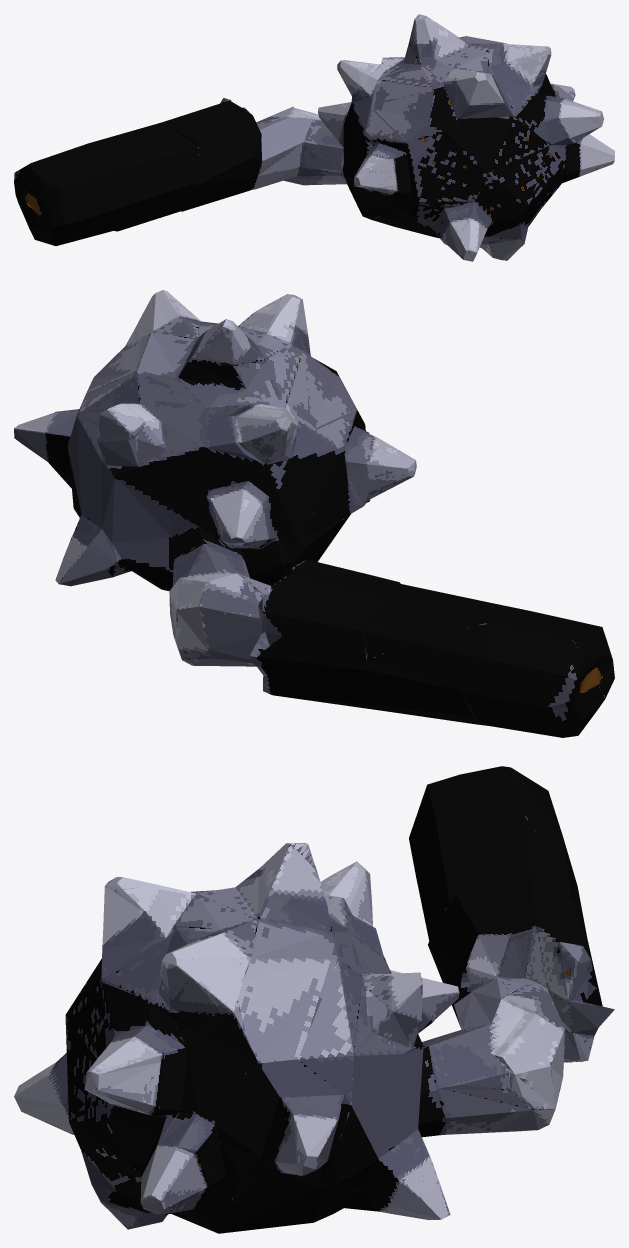
3 views of the same model, one above another, from view 1: azimuth 30°, elevation 25°; view 2: azimuth 150°, elevation 25°; view 3: azimuth 270°, elevation 25° (orthographic). The views are drawn at different scales.
Parts seen in each view (by area): view 1: OBJ0ca; view 2: OBJ0ca; view 3: OBJ0ca.
Part boxes in pixels (x1,y1,x2,y2): OBJ0ca: [14, 14, 614, 261]; OBJ0ca: [14, 290, 614, 737]; OBJ0ca: [14, 766, 614, 1233].
Size of the model in its own units: 0.3249 by 0.1367 by 0.2067.
1 material, 1 textured.
